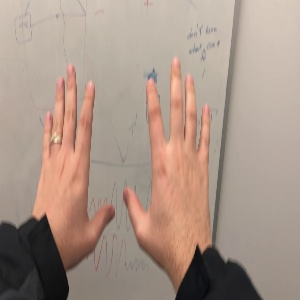hand: (123, 56, 211, 247), (35, 65, 115, 241)
